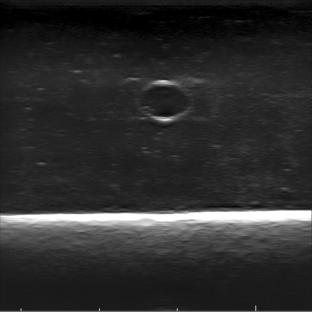vessel: (138, 78, 191, 122)
